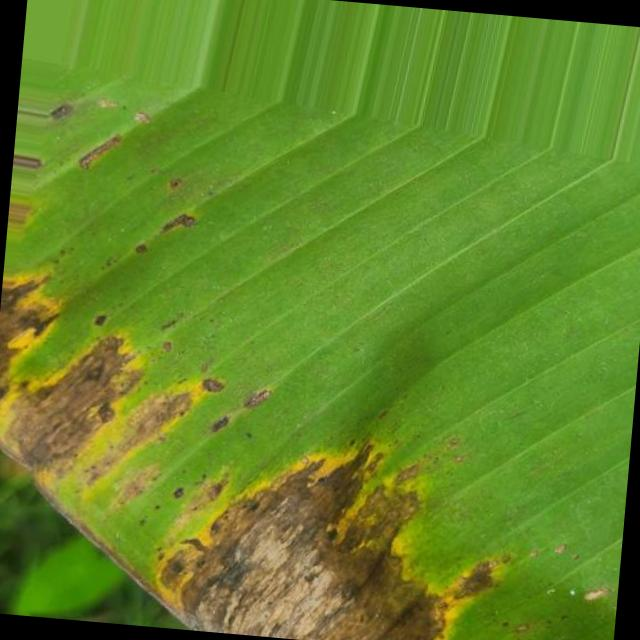Banana_Black_Sigatoka: (111, 418, 513, 640), (0, 183, 234, 471)
